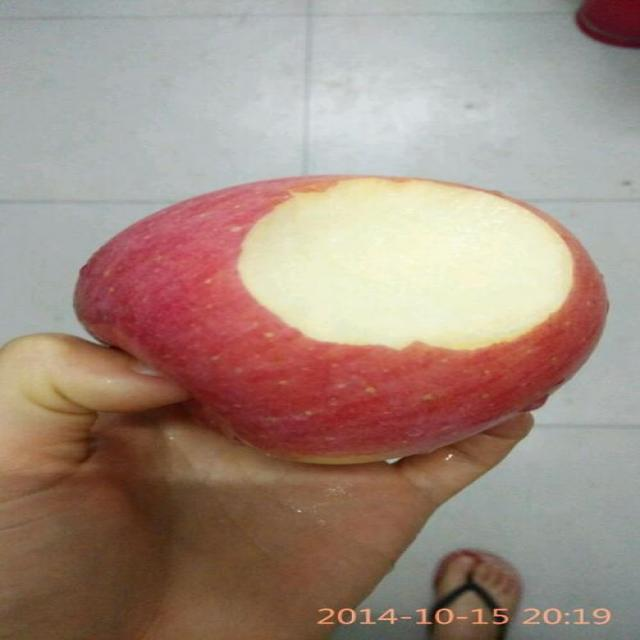Rotten: (77, 171, 605, 468)
